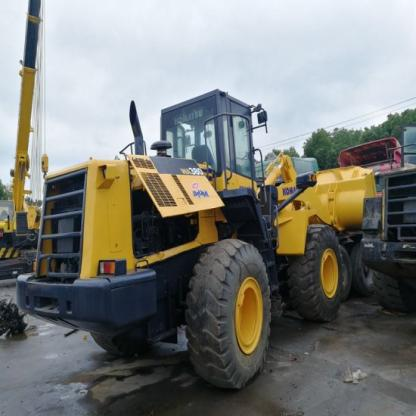bull_dozer/loader/grader: (14, 79, 411, 398)
